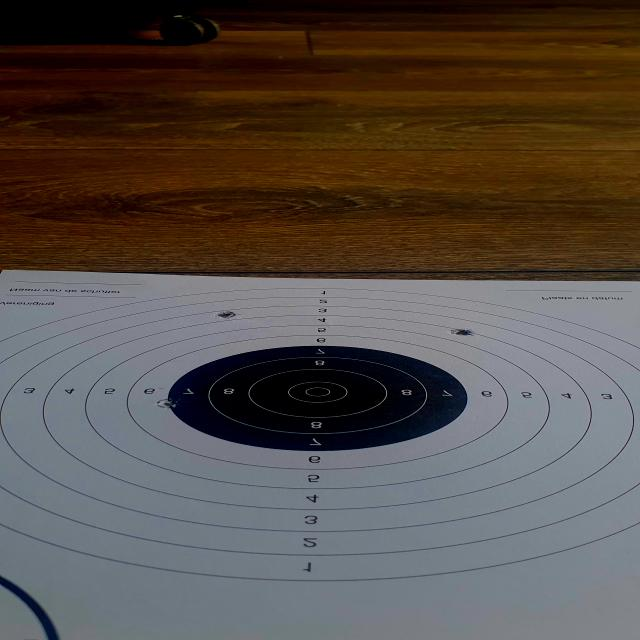3: (208, 310, 242, 319)
4: (446, 327, 474, 336)
7: (154, 397, 186, 410)
Target: (0, 285, 640, 582)
black_contour: (168, 344, 468, 451)
